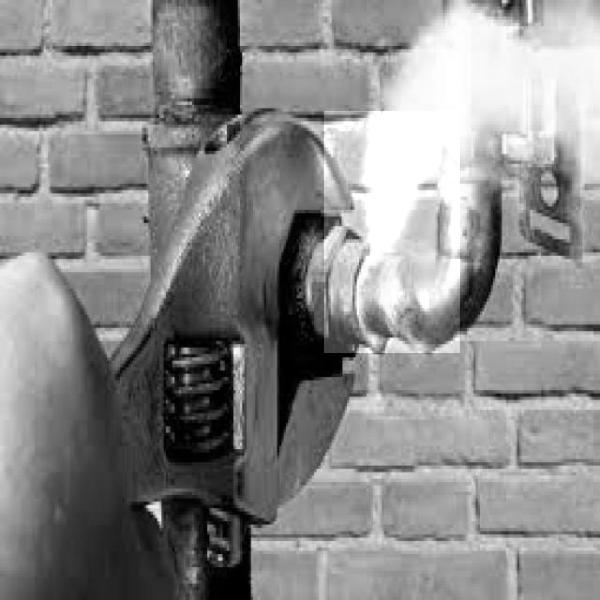gas: (324, 111, 460, 353)
